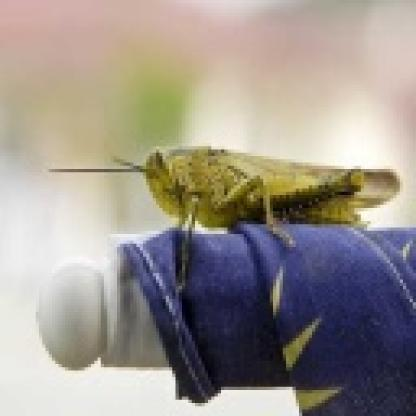grasshopper: (72, 141, 408, 254)
